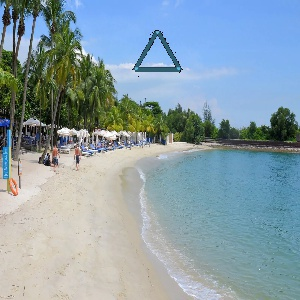triangle: (128, 28, 184, 78)
